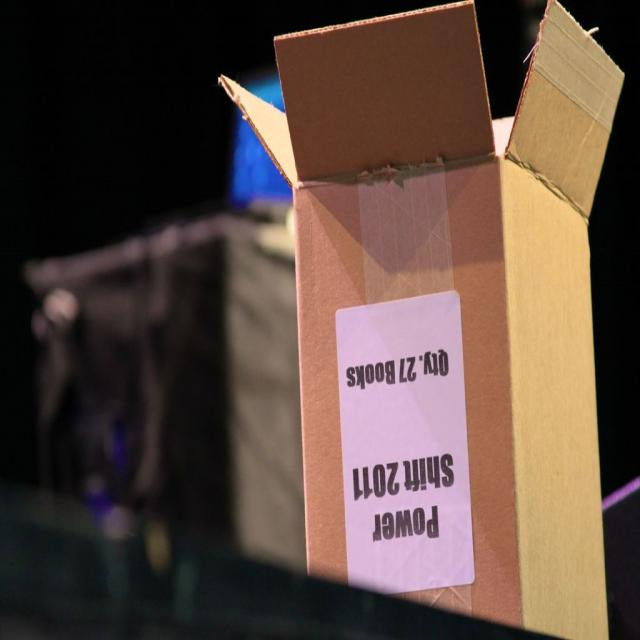Box: (217, 0, 629, 639)
